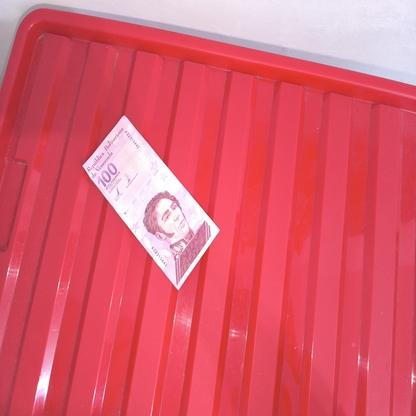one_hundred-front-vef: (81, 114, 220, 292)
